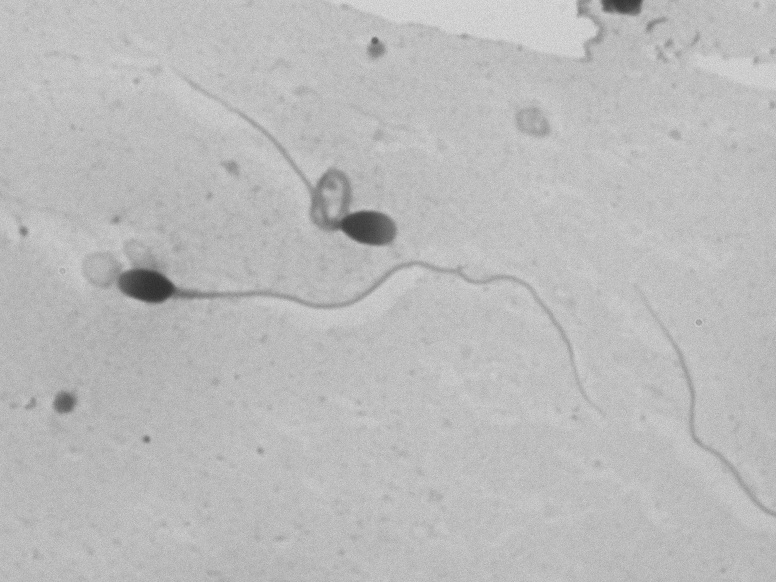Abnormal: (197, 65, 425, 273)
Normal: (100, 240, 607, 428)
